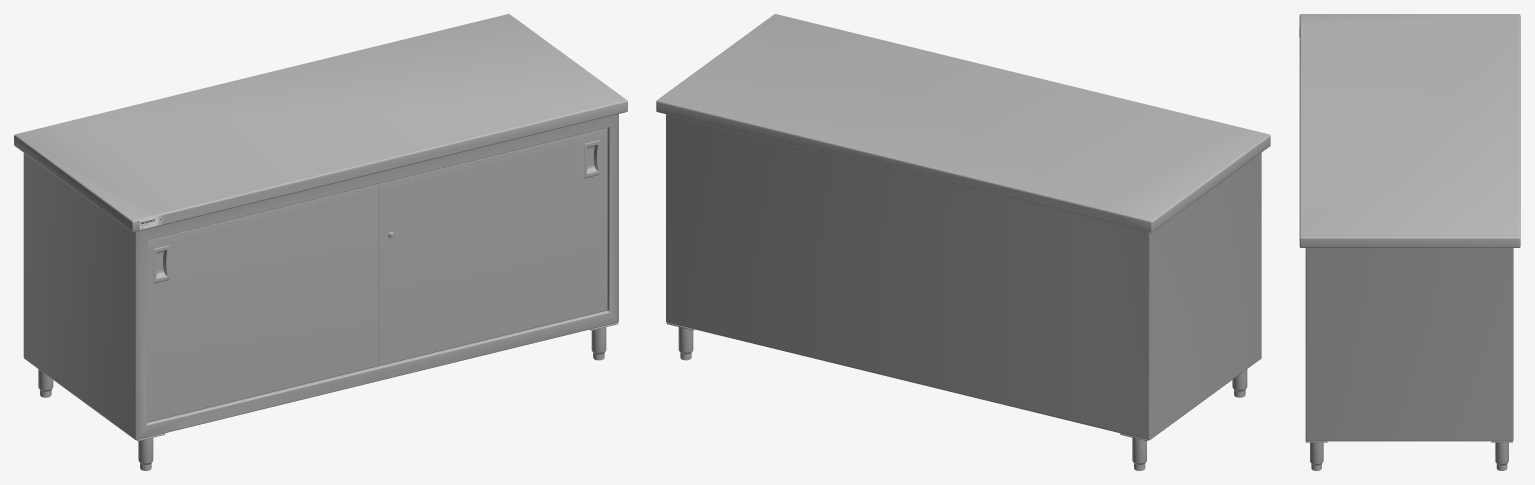
The picture shows the model from 3 angles, left to right: view 1: azimuth 30°, elevation 25°; view 2: azimuth 150°, elevation 25°; view 3: azimuth 270°, elevation 25°; orthographic projection. The views are drawn at different scales.
Parts seen in each view (by area): view 1: 600EBT2436D.009; view 2: 600EBT2436D.009; view 3: 600EBT2436D.009.
Part boxes in pixels (box(x1,y1,x2,y2)): 600EBT2436D.009: box(14, 14, 627, 470); 600EBT2436D.009: box(656, 14, 1270, 470); 600EBT2436D.009: box(1299, 14, 1520, 470).
Bounding box in the file's own units: 1.83 × 0.9144 × 0.762.
Materials: 2 (1 with a texture image).
